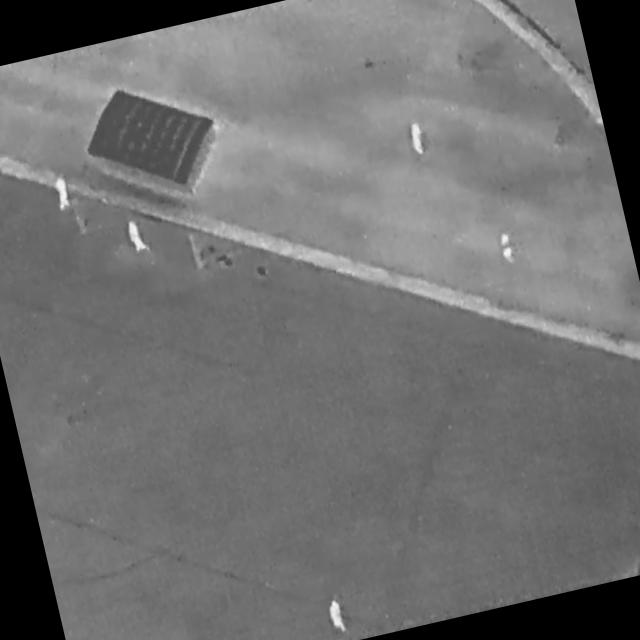person: (120, 214, 155, 261), (403, 117, 431, 160), (326, 596, 350, 636), (496, 228, 520, 267), (50, 175, 73, 212)
